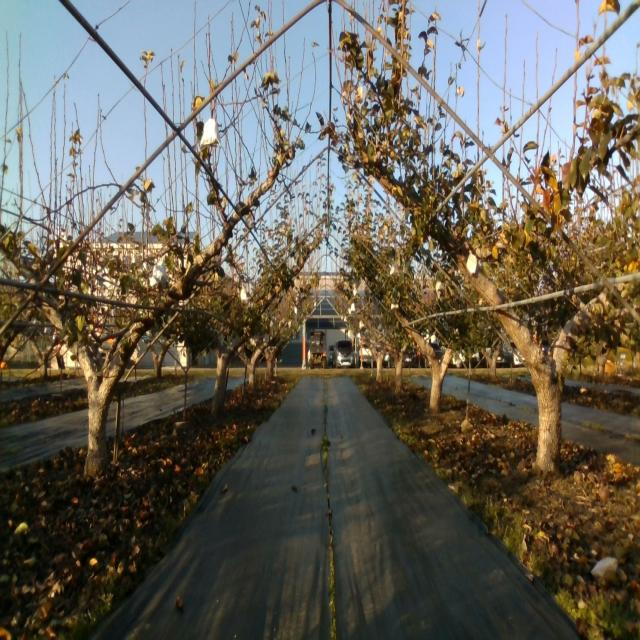pearbags: (149, 260, 169, 288), (200, 118, 218, 145), (466, 249, 479, 280)
